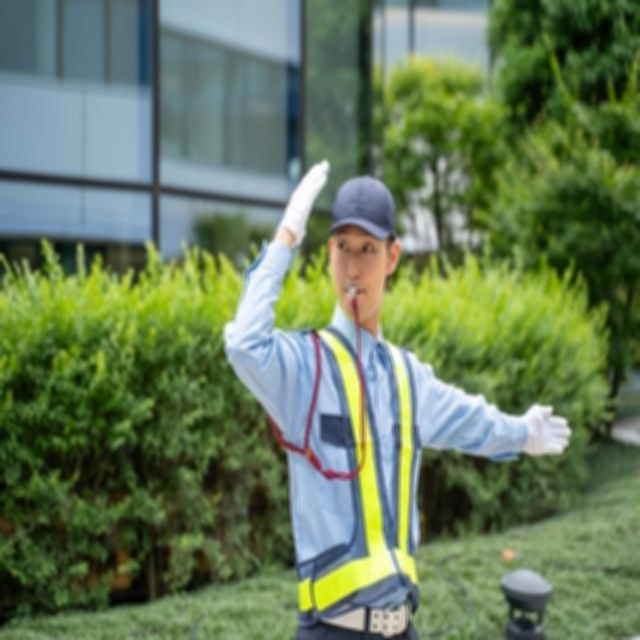Con_Chaleco: (294, 331, 422, 631)
Sin_Casco_Mascarrilla: (328, 171, 396, 312)
